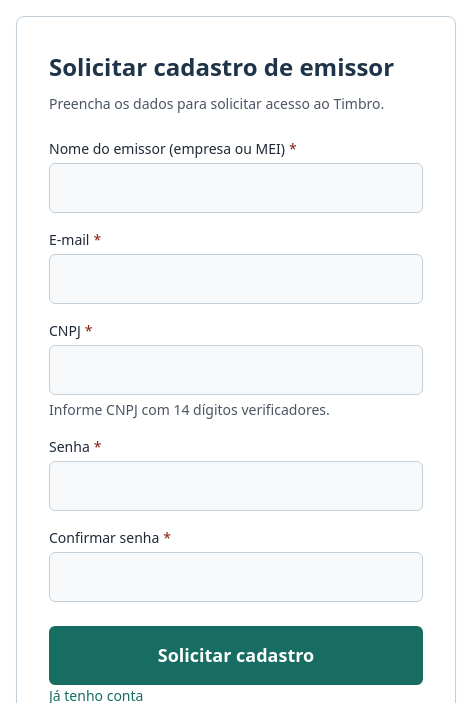
Test: CadastroEmissorPage › mostra erro de negócio 400 retornado pelo backend
Type "Instituto Exemplo" into the field labelled "Nome do emissor (empresa ou MEI)*" at (236, 188), box left=49, top=163, right=423, bottom=213
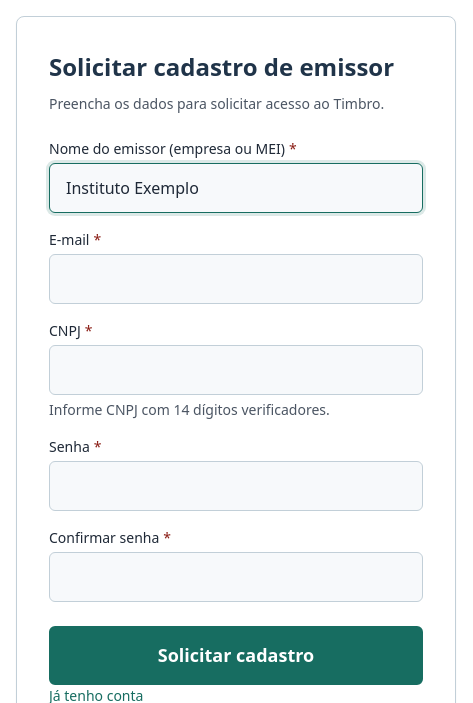
Type "cadastrado@timbro.test" into the field labelled "E-mail*" at (236, 279), box left=49, top=254, right=423, bottom=304
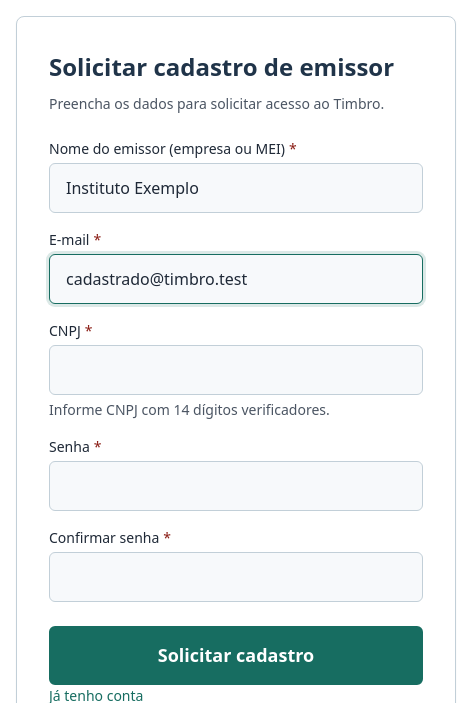
Type "11222333000181" into the field labelled "CNPJ*" at (236, 370), box left=49, top=345, right=423, bottom=395
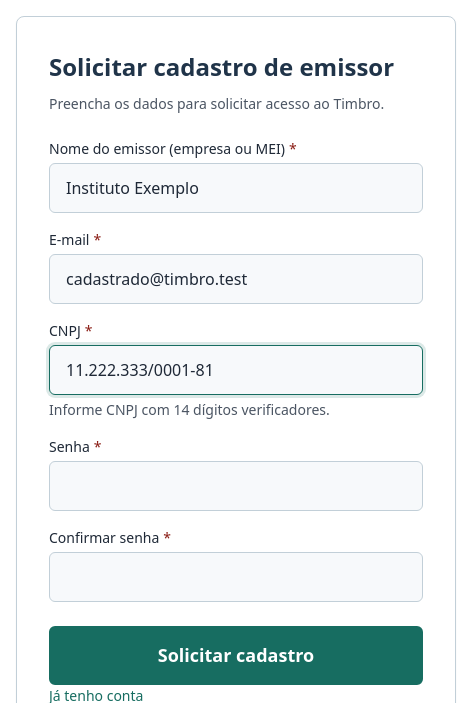
Type "senha123" into the password field labelled "Senha*" at (236, 486), box left=49, top=461, right=423, bottom=511
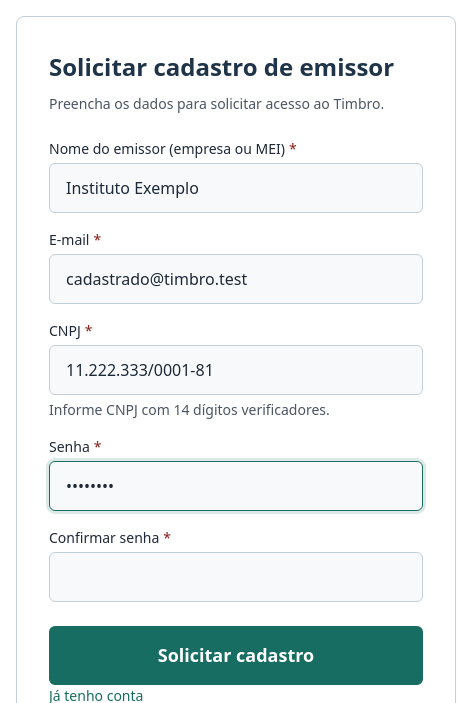
Type "senha123" into the password field labelled "Confirmar senha*" at (236, 577), box left=49, top=552, right=423, bottom=602
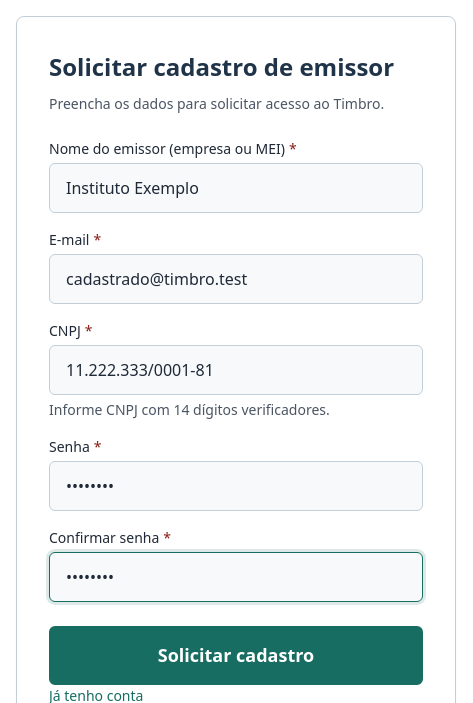
Click the button "Solicitar cadastro" at (236, 655), box left=49, top=626, right=423, bottom=684
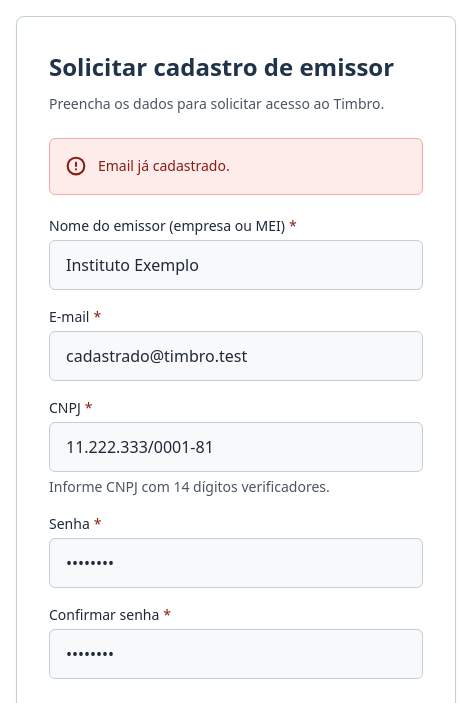
Expected: the message reads "Email já cadastrado.", left=98, top=156, right=230, bottom=175
